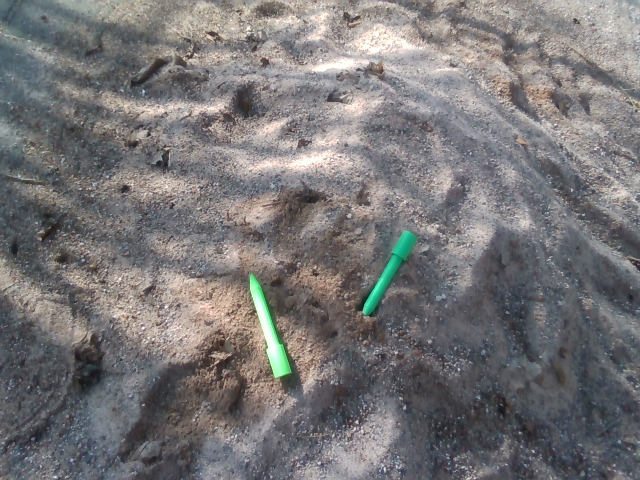Probe: (355, 225, 423, 332), (246, 268, 295, 383)
